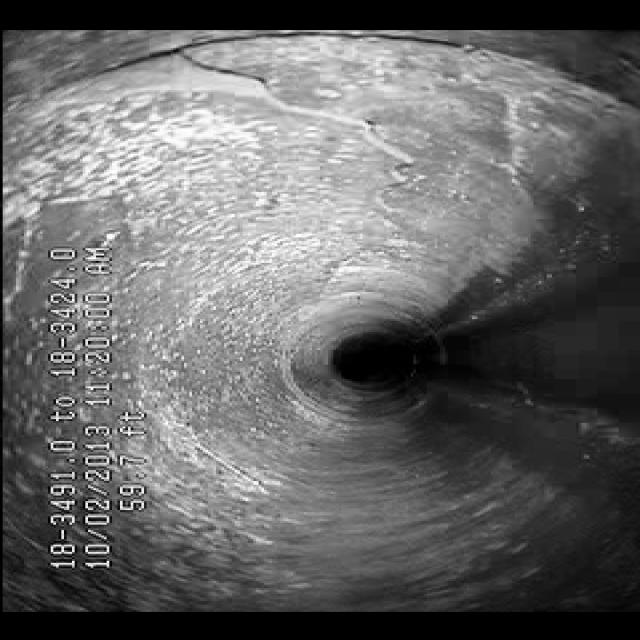Fracture: (227, 40, 453, 236)
